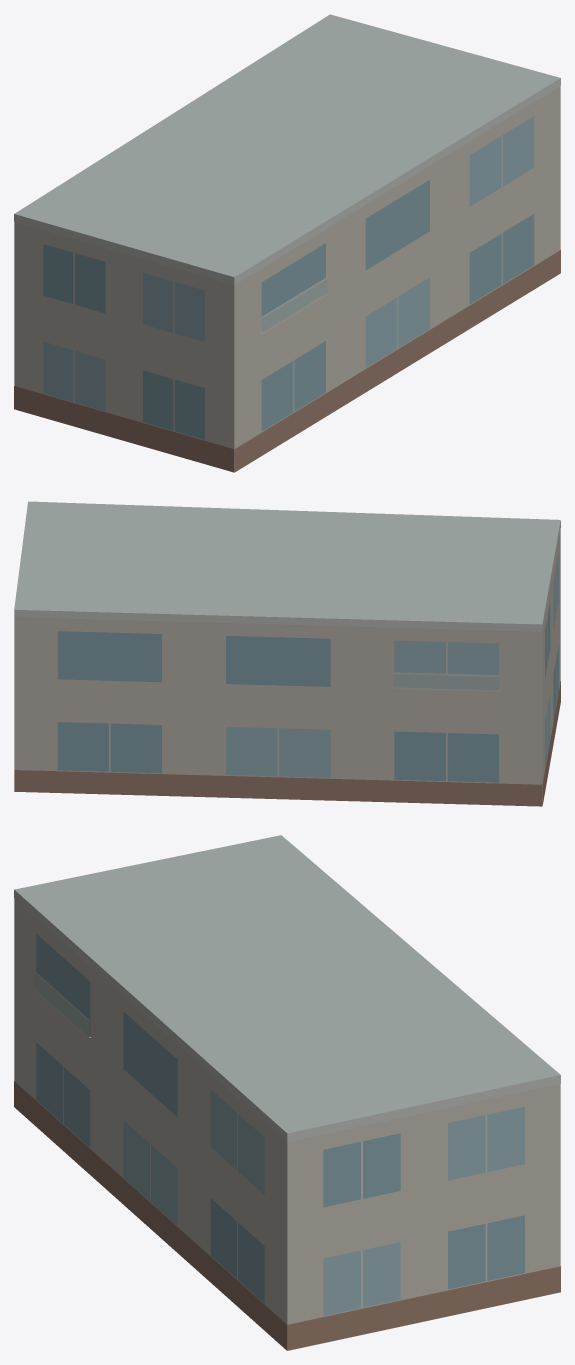
File: survey-upis-32704796.glb
The picture shows the model from 3 angles, top to bottom: view 1: azimuth 30°, elevation 25°; view 2: azimuth 150°, elevation 25°; view 3: azimuth 270°, elevation 25°; orthographic projection. The views are drawn at different scales.
Visible parts, largest first — view 1: survey-upis-32704796.tmp; view 2: survey-upis-32704796.tmp; view 3: survey-upis-32704796.tmp.
Boxes of the visible parts, x1,y1,x2,y2 form: survey-upis-32704796.tmp: (14, 14, 560, 472); survey-upis-32704796.tmp: (14, 501, 560, 806); survey-upis-32704796.tmp: (14, 835, 560, 1350).
Bounding box in the file's own units: 17.97 × 6.1 × 13.91.
